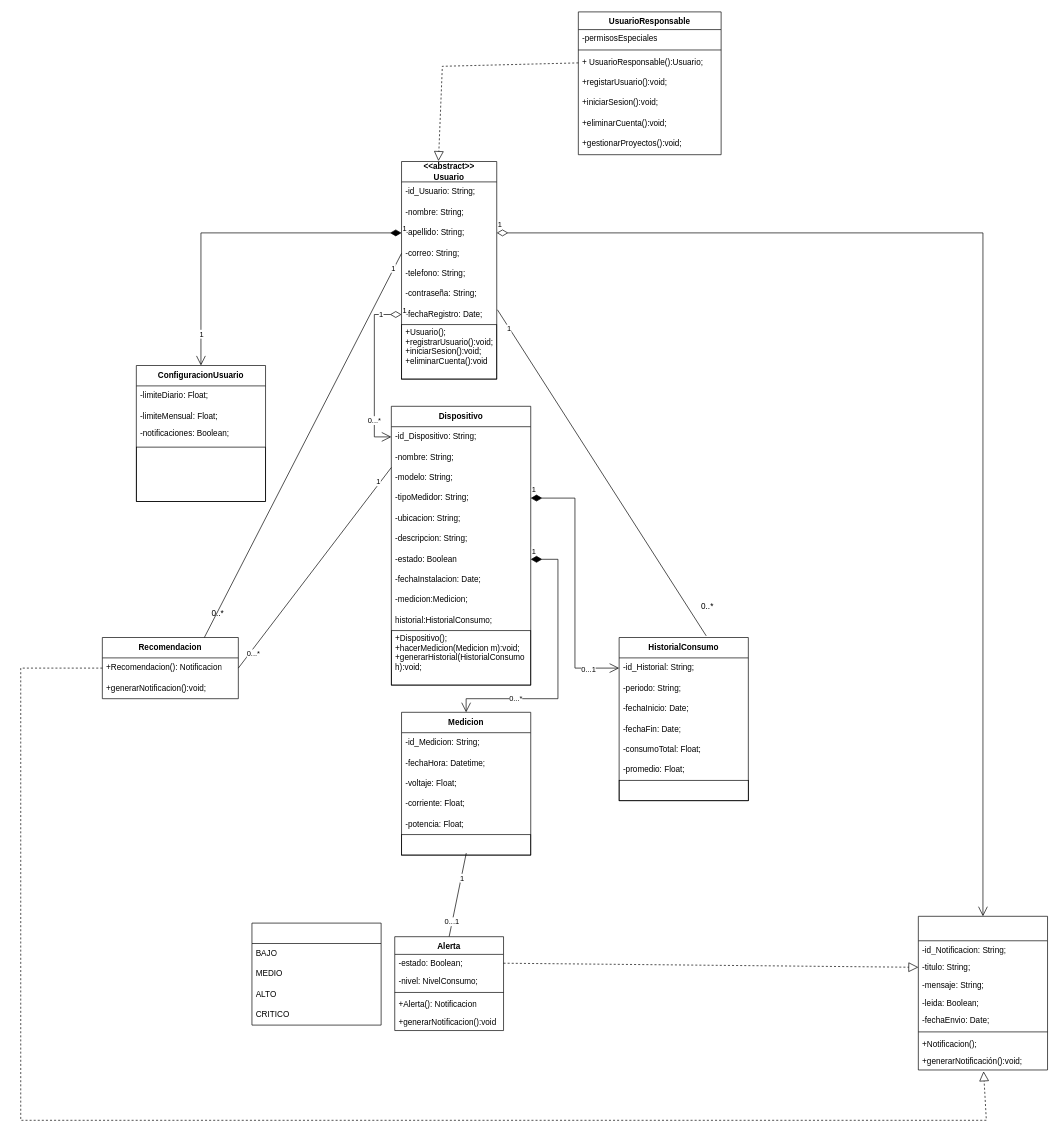
Some shapes in this 1059 by 1142 pixel diagram are drawn without their labels. Each missing label, with the box of its shape:
+ConfiguracionUsuario(); +configurarUmbrales():void;: (136, 446, 266, 502)
+HistorialConsumo();: (618, 780, 748, 801)
+Medicion();: (401, 834, 531, 855)
<<abstract>> Notificacion: (918, 916, 1048, 1070)
<<enumeration>> NivelConsumo: (251, 922, 381, 1025)
